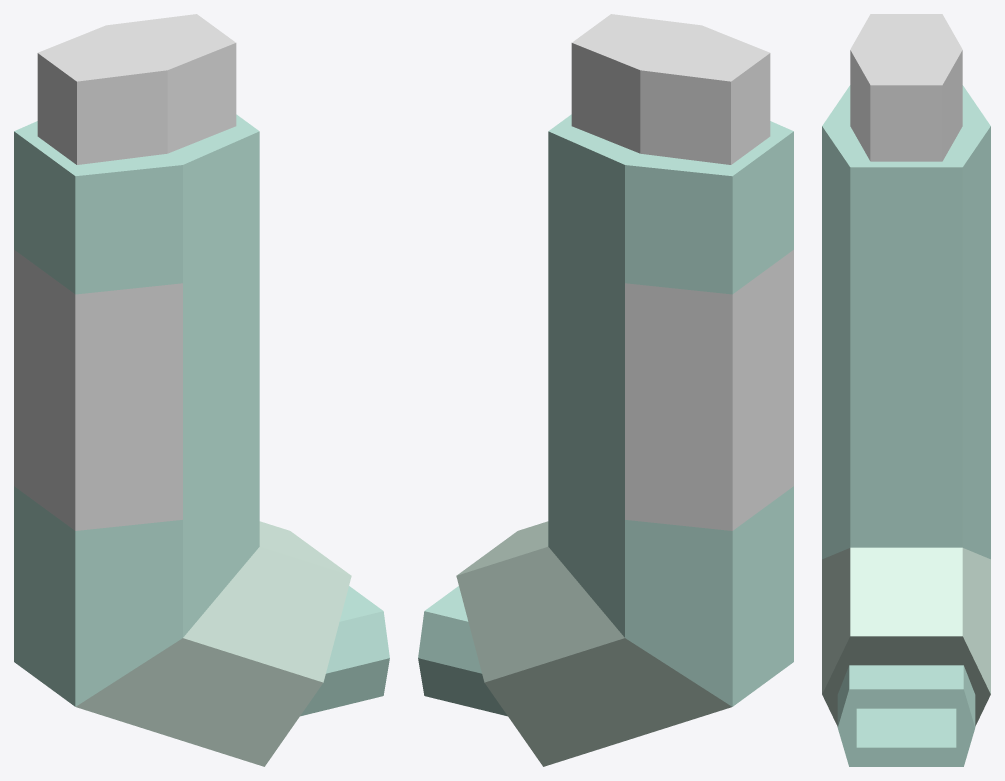
Rendered from Puffer.fbx.
3 renders of one model, left to right at view 1: azimuth 30°, elevation 25°; view 2: azimuth 150°, elevation 25°; view 3: azimuth 270°, elevation 25°, orthographic. The views are drawn at different scales.
Visible parts, largest first — view 1: Puffer; view 2: Puffer; view 3: Puffer.
Part boxes in pixels (x1=…): Puffer: x1=14, y1=14, x2=389, y2=766; Puffer: x1=418, y1=14, x2=793, y2=766; Puffer: x1=822, y1=14, x2=990, y2=766.
Size of the model in its own units: 0.0579 by 0.1294 by 0.03.
